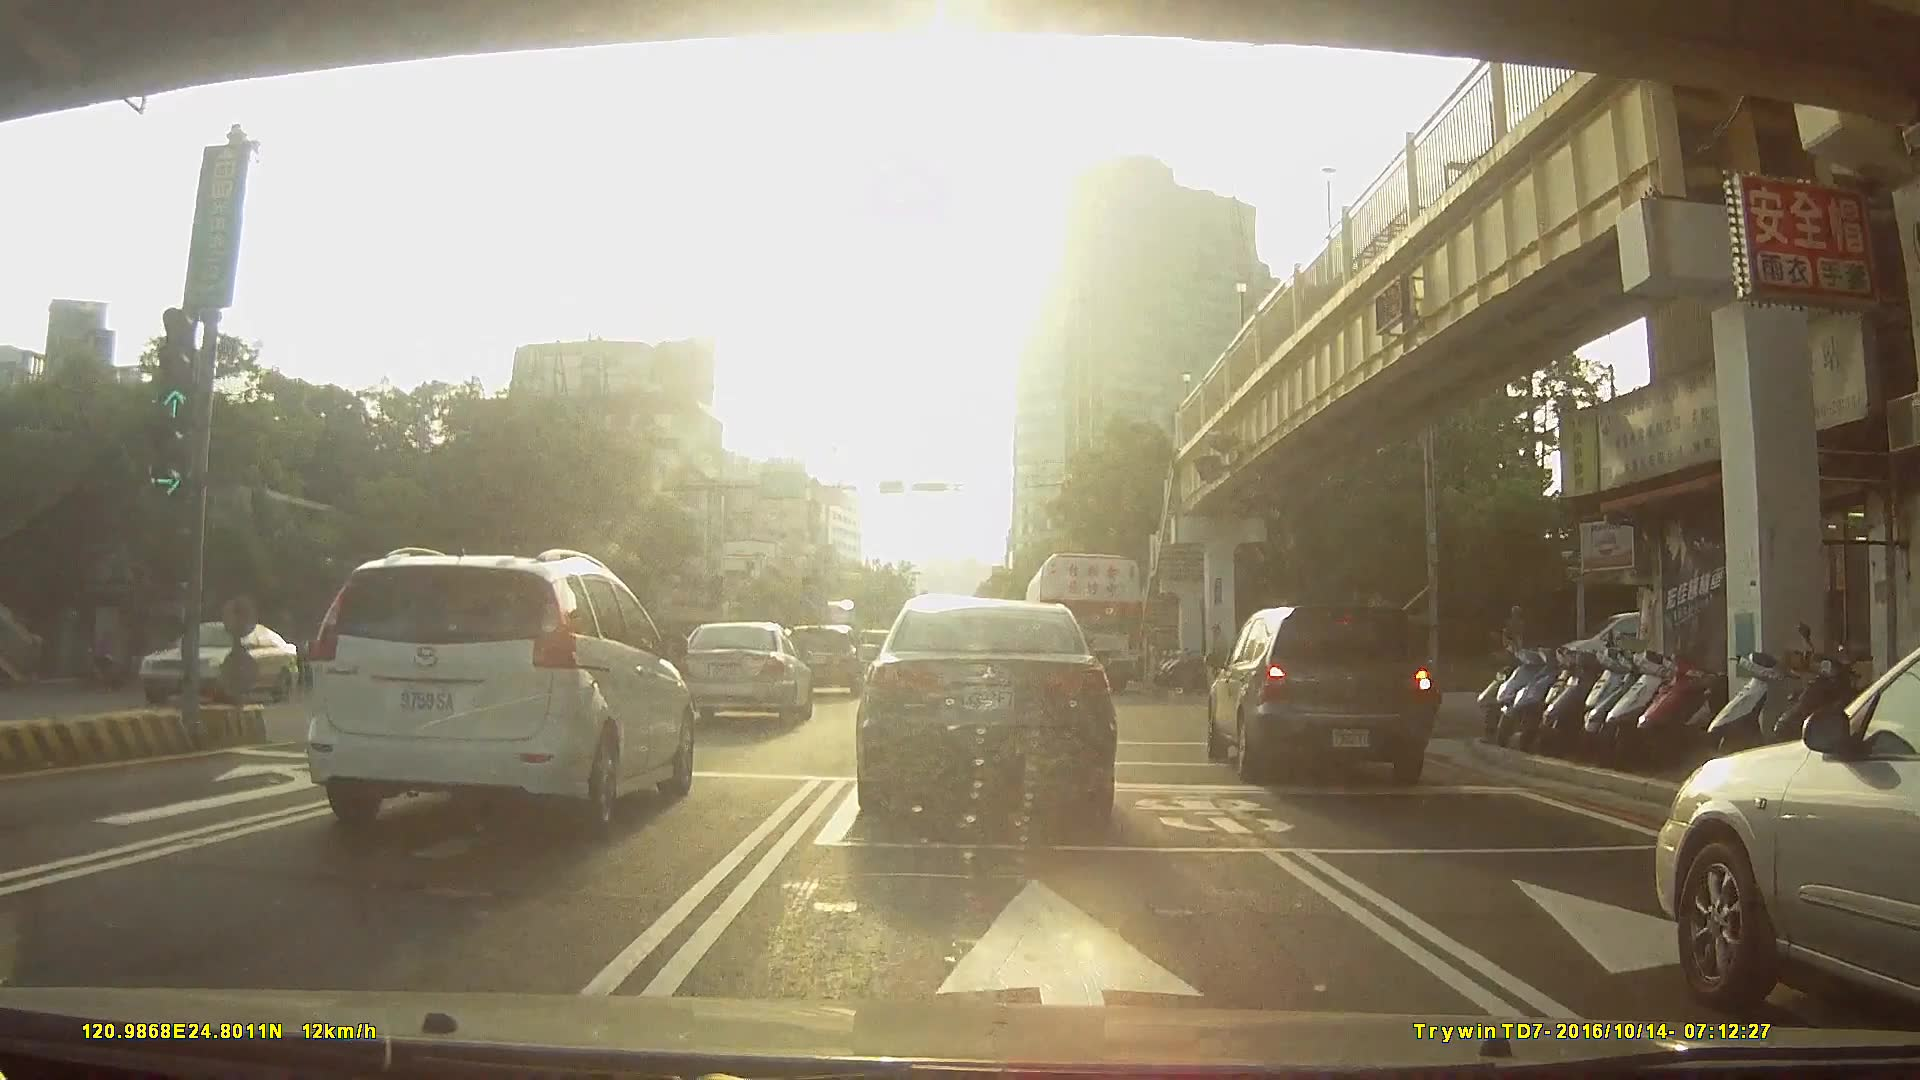pedestrian: (1207, 620, 1233, 684)
vehicle: (306, 544, 697, 833), (1656, 646, 1920, 1019), (852, 590, 1115, 822), (1203, 600, 1443, 787), (1026, 554, 1145, 695), (136, 621, 312, 707), (679, 621, 815, 727), (781, 624, 864, 698)
